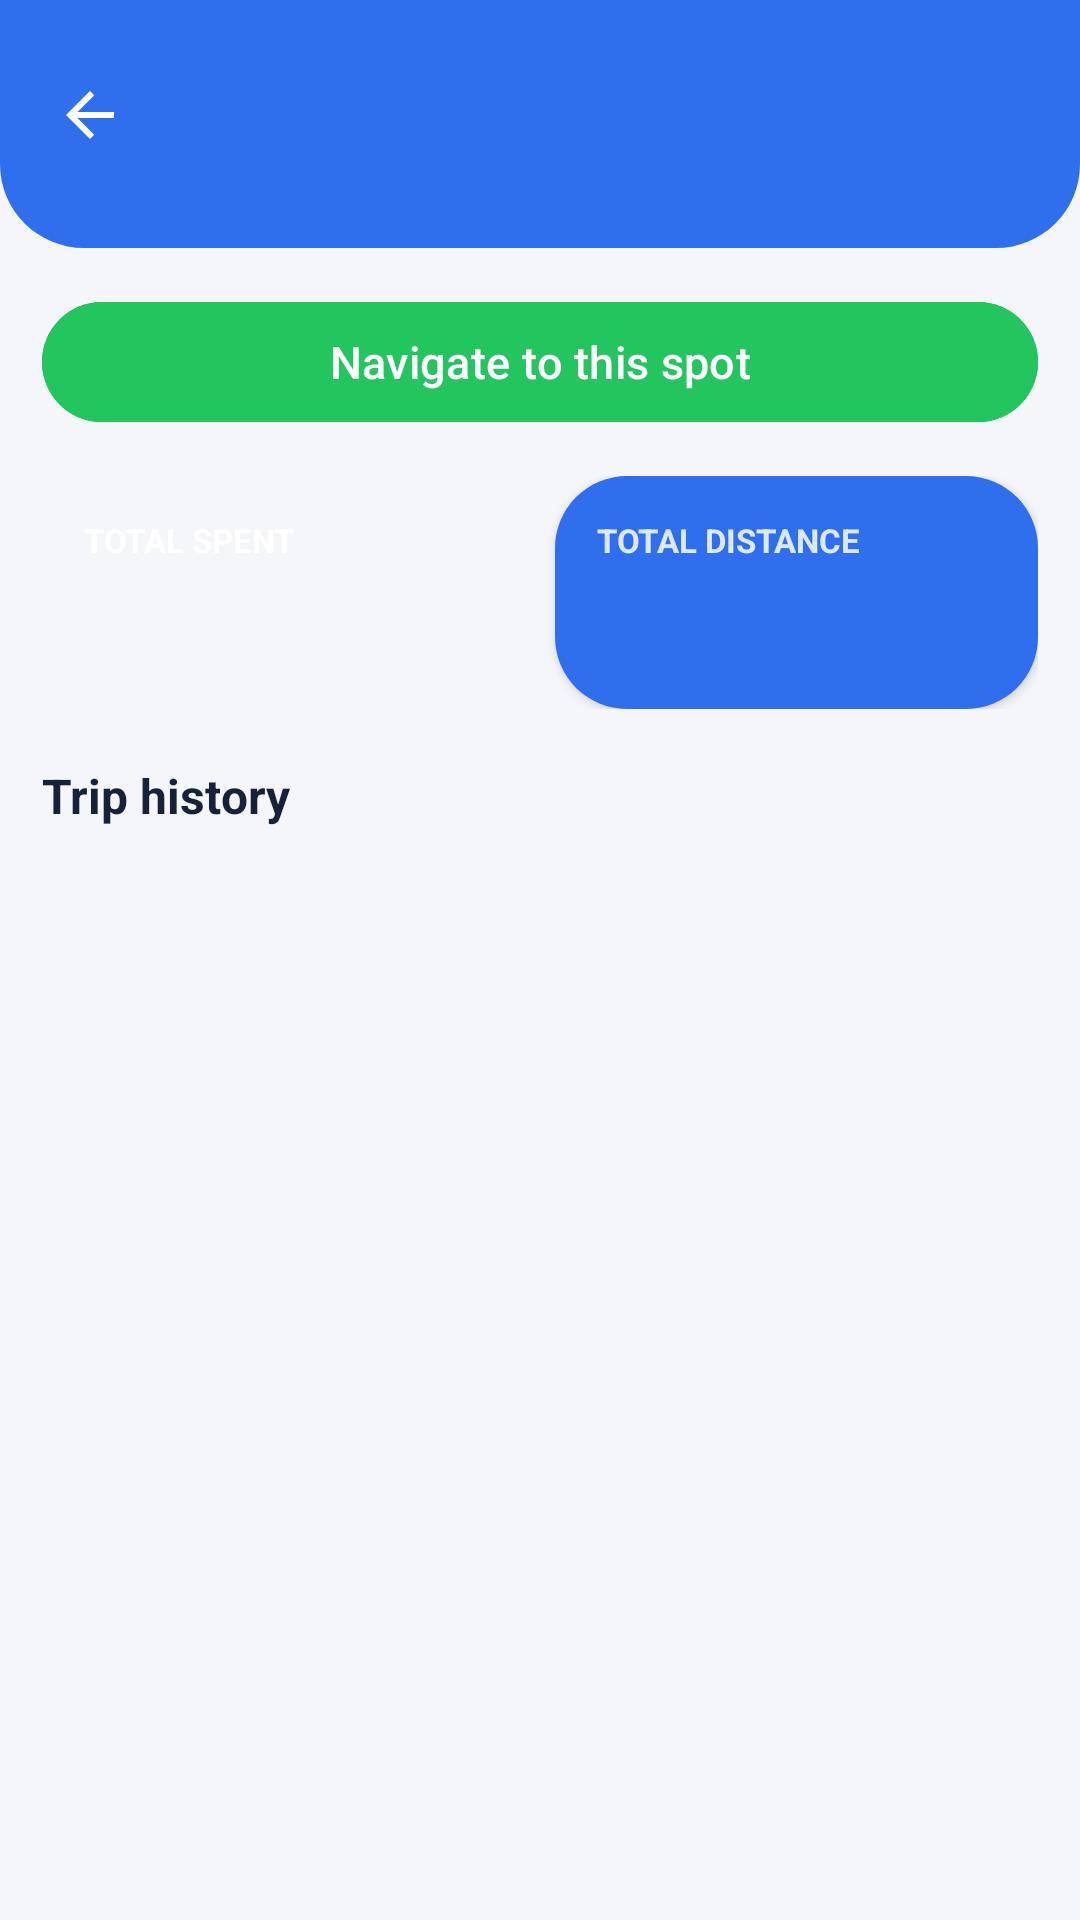

Where to tap for icons on this 1080w x 1920h app screen, as (x,y):
Back: (90,115)
